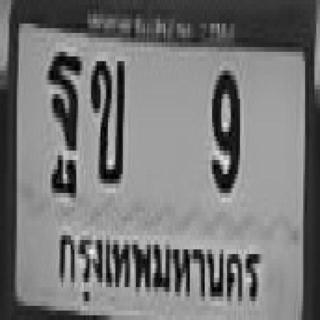A02: (89, 56, 125, 188)
A16: (46, 47, 82, 195)
N09: (210, 66, 241, 195)
P04: (48, 221, 269, 317)
